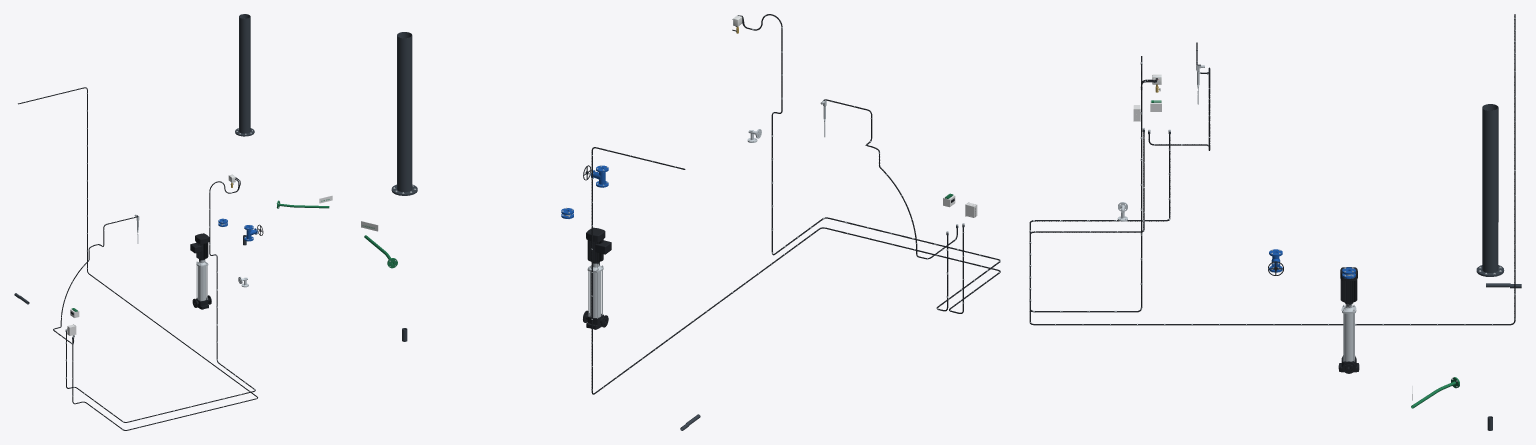
3 renders of one model, left to right at view 1: azimuth 30°, elevation 25°; view 2: azimuth 150°, elevation 25°; view 3: azimuth 270°, elevation 25°, orthographic. The views are drawn at different scales.
Visible parts, largest first — view 1: bdv_vent / dark, mod_eco_drive_cable / black, wiring_pressure_switch_3 / black, wiring_pressure_transmitter / black, pump_2 CAD solid 15, wiring_low_level_2 / black, pump_2 CAD solid 2; view 2: bdv_vent / dark, mod_eco_drive_cable / black, wiring_pressure_switch_3 / black, wiring_pressure_transmitter / black, pump_2 CAD solid 15; view 3: bdv_vent / dark, mod_eco_drive_cable / black, wiring_pressure_switch_3 / black, wiring_pressure_transmitter / black, pump_2 CAD solid 2, pump_2 CAD solid 15.
Boxes of the visible parts, x1,y1,x2,y2 form: bdv_vent / dark: [235, 14, 254, 136]; mod_eco_drive_cable / black: [18, 87, 257, 430]; wiring_pressure_switch_3 / black: [66, 177, 255, 422]; wiring_pressure_transmitter / black: [66, 178, 255, 422]; pump_2 CAD solid 15: [190, 233, 209, 259]; wiring_low_level_2 / black: [53, 215, 138, 343]; pump_2 CAD solid 2: [198, 266, 206, 300]; bdv_vent / dark: [391, 32, 417, 195]; mod_eco_drive_cable / black: [591, 147, 1000, 394]; wiring_pressure_switch_3 / black: [732, 14, 999, 311]; wiring_pressure_transmitter / black: [740, 14, 999, 311]; pump_2 CAD solid 15: [586, 227, 611, 262]; bdv_vent / dark: [1476, 104, 1504, 276]; mod_eco_drive_cable / black: [1029, 14, 1515, 325]; wiring_pressure_switch_3 / black: [1029, 56, 1170, 312]; wiring_pressure_transmitter / black: [1029, 56, 1170, 312]; pump_2 CAD solid 2: [1344, 313, 1354, 361]; pump_2 CAD solid 15: [1340, 267, 1357, 303].
Bounding box in the file's own units: 6.06 × 3.75 × 5.05.
